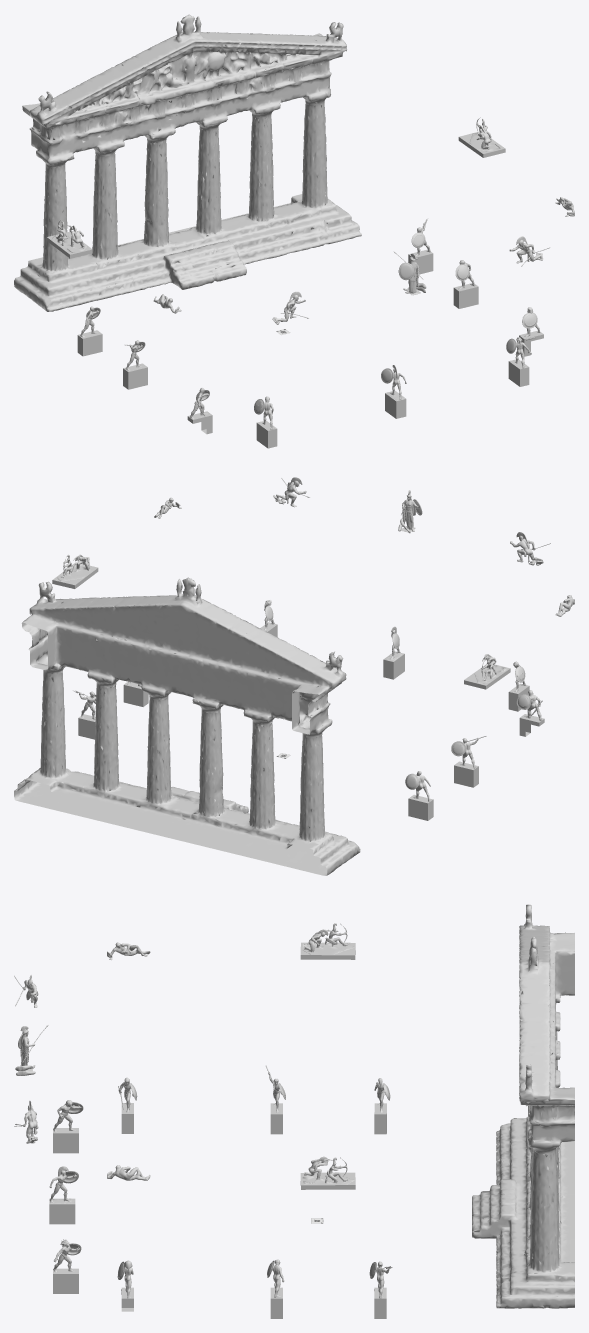
Rendered from project18.glb.
The picture shows the model from 3 angles, top to bottom: view 1: azimuth 30°, elevation 25°; view 2: azimuth 150°, elevation 25°; view 3: azimuth 270°, elevation 25°; orthographic projection. The views are drawn at different scales.
Visible parts, largest first — view 1: festék - fényes fehér.001; view 2: festék - fényes fehér.001; view 3: festék - fényes fehér.001.
Part boxes in pixels (left/top/right/bottom): festék - fényes fehér.001: left=14, top=14, right=574, bottom=448; festék - fényes fehér.001: left=14, top=477, right=574, bottom=875; festék - fényes fehér.001: left=14, top=904, right=574, bottom=1318.
Size of the model in its own units: 23.23 by 12.63 by 22.68.
Materials: 2 (1 with a texture image).
